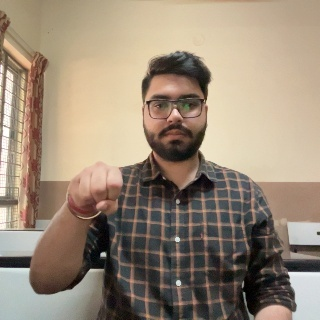Face: (145, 61, 210, 166)
Yes: (68, 161, 124, 229)
